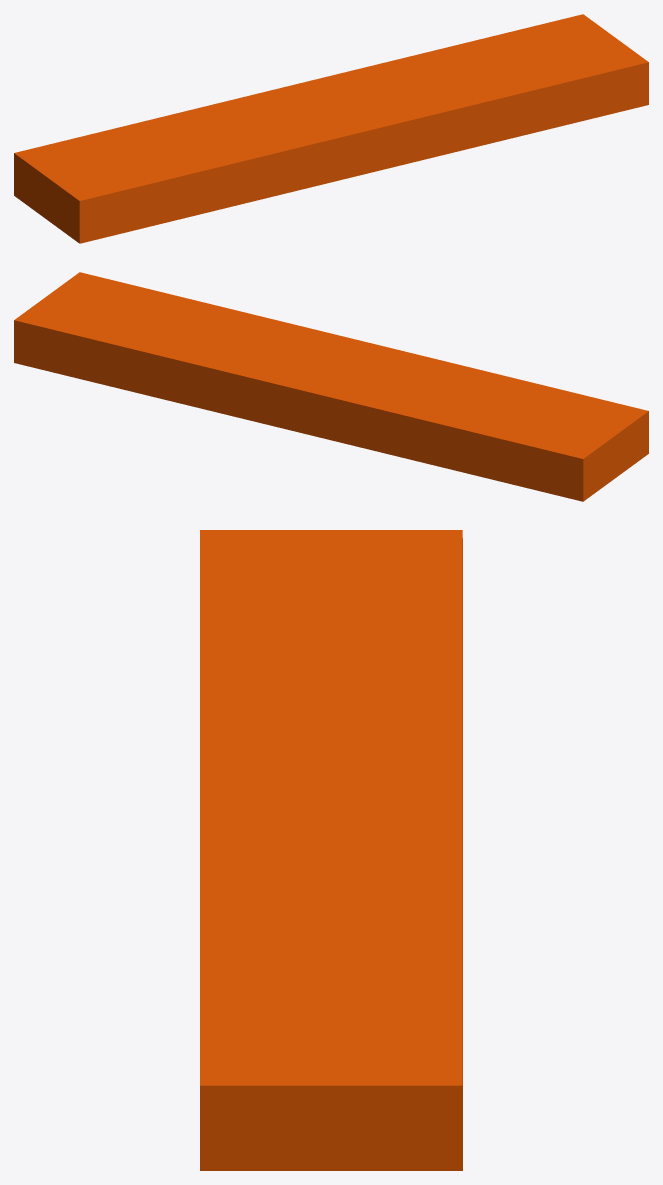
File: Trim_Strip.fbx
3 views of the same model, one above another, from view 1: azimuth 30°, elevation 25°; view 2: azimuth 150°, elevation 25°; view 3: azimuth 270°, elevation 25° (orthographic). The views are drawn at different scales.
Visible parts, largest first — view 1: Trim_Strip; view 2: Trim_Strip; view 3: Trim_Strip.
Part boxes in pixels (x1,y1,x2,y2): Trim_Strip: [14, 14, 648, 243]; Trim_Strip: [14, 272, 648, 501]; Trim_Strip: [200, 530, 462, 1170].
Size of the model in its own units: 1 by 0.0717 by 0.2001.
